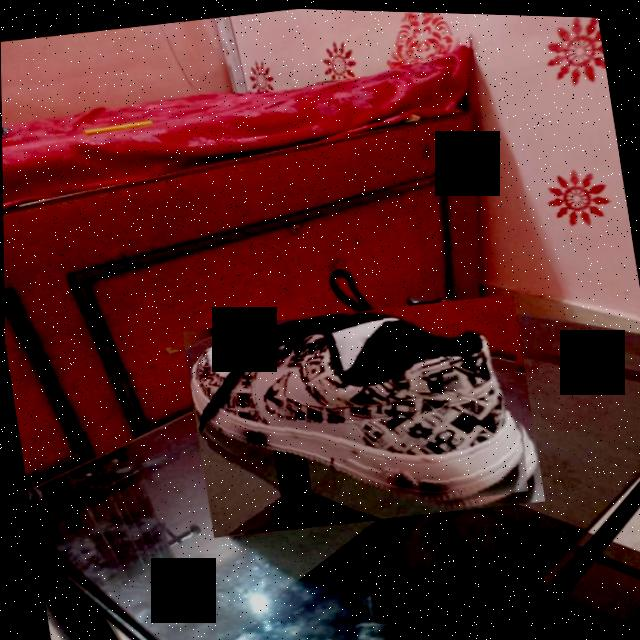shoe: (181, 284, 545, 545)
